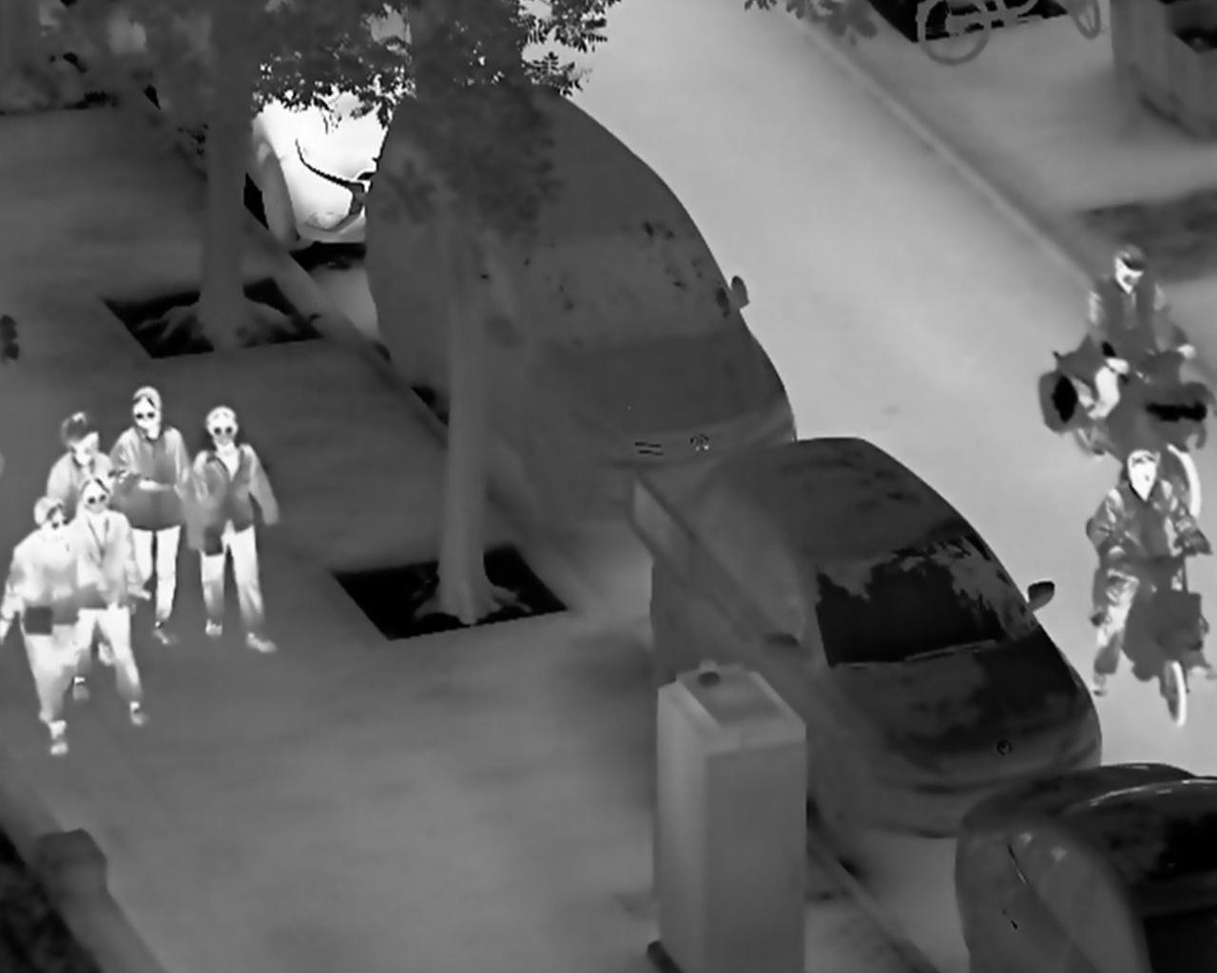person: (1088, 446, 1217, 701), (1078, 243, 1199, 458), (189, 404, 282, 656), (65, 475, 153, 731), (106, 384, 190, 652), (35, 405, 109, 532)
